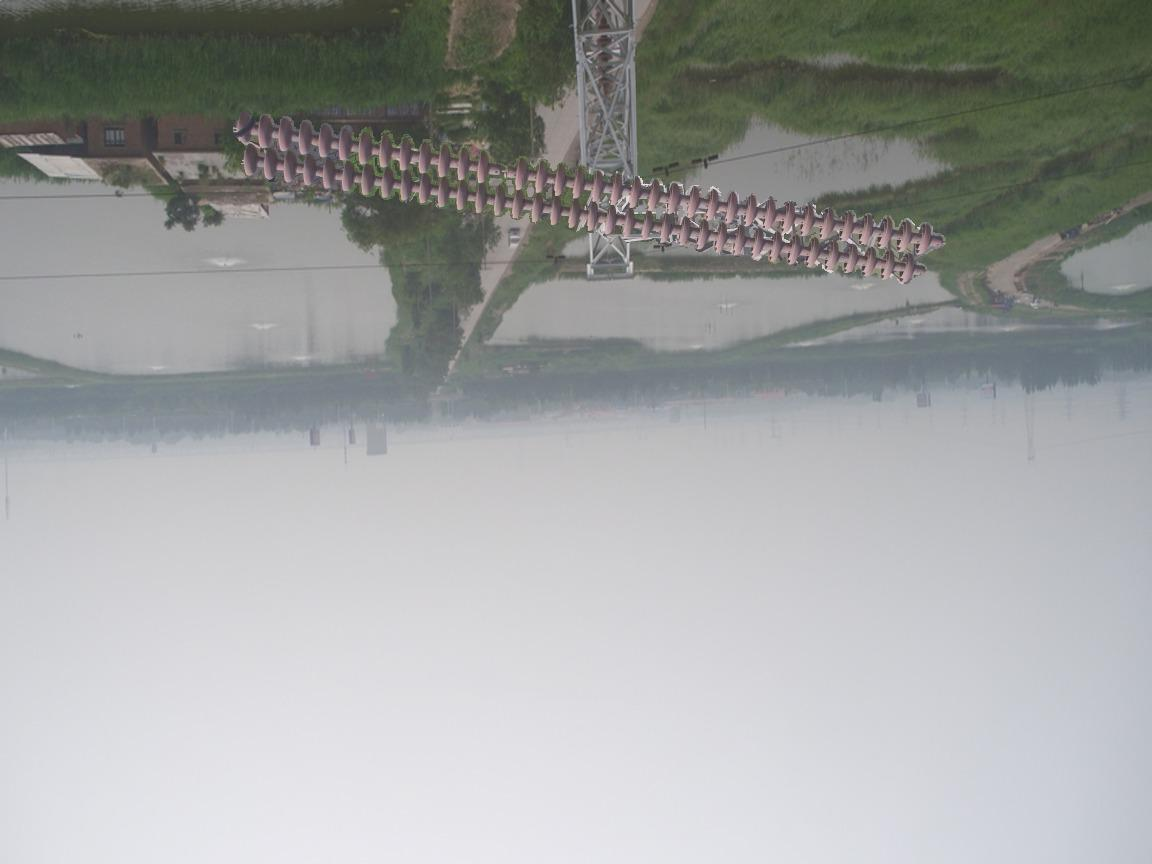insulator: (229, 111, 945, 287)
insulator_stringdrop: (474, 148, 530, 194)
